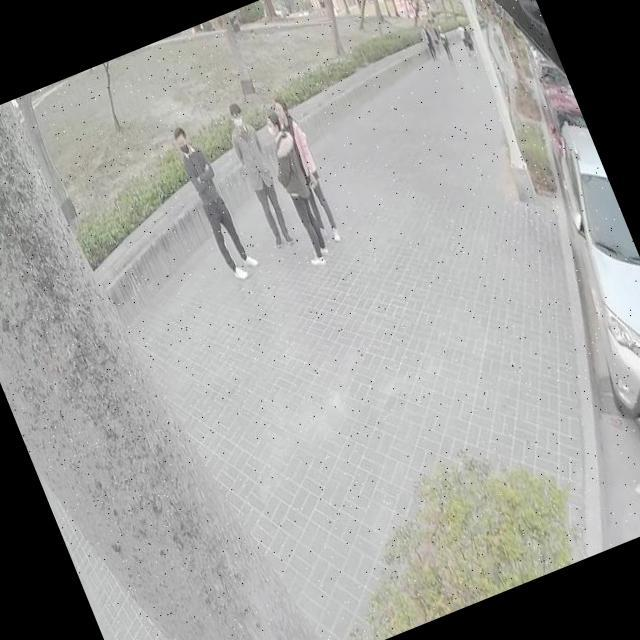person: (248, 102, 342, 270), (167, 116, 258, 281), (262, 89, 350, 253), (218, 100, 296, 248)
